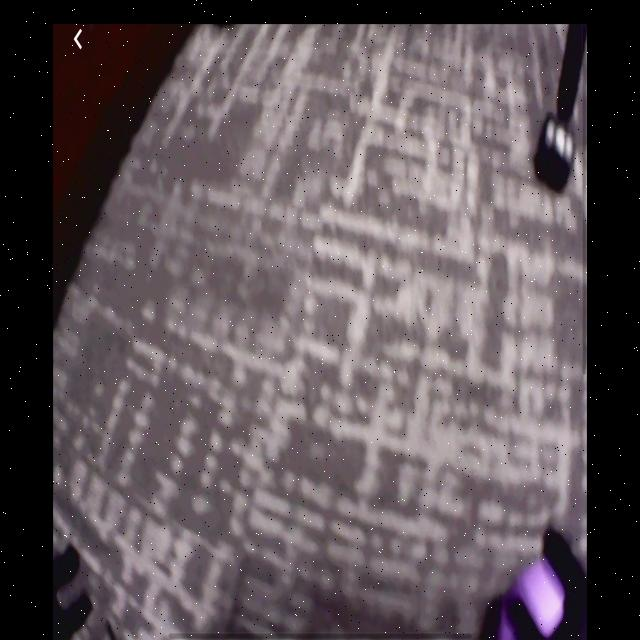ball: (503, 559, 577, 640)
